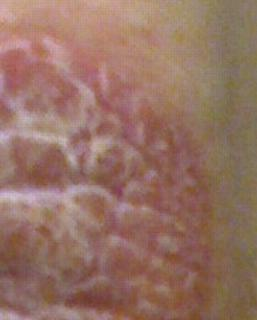plaque psoriasis: (0, 36, 231, 320)
